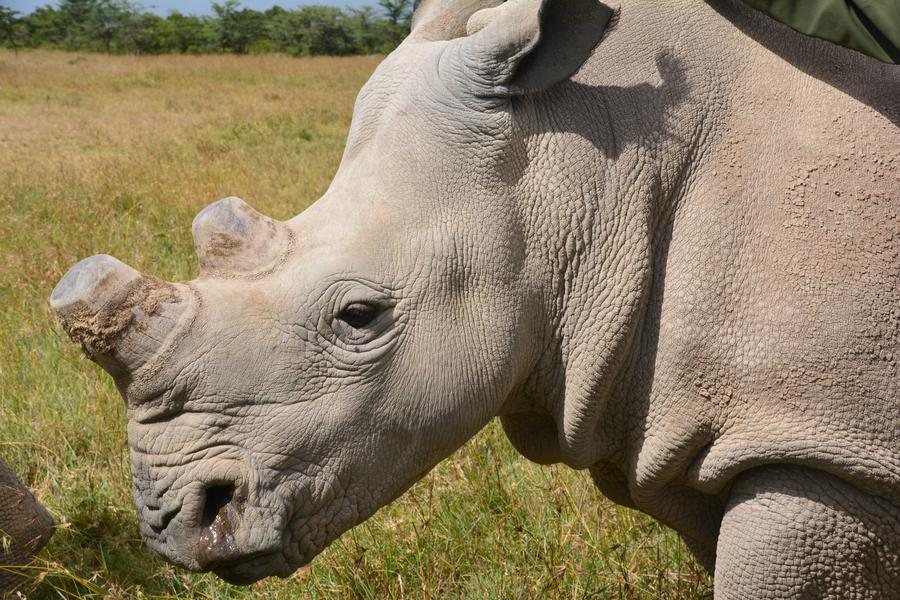rhino: (89, 14, 877, 580)
